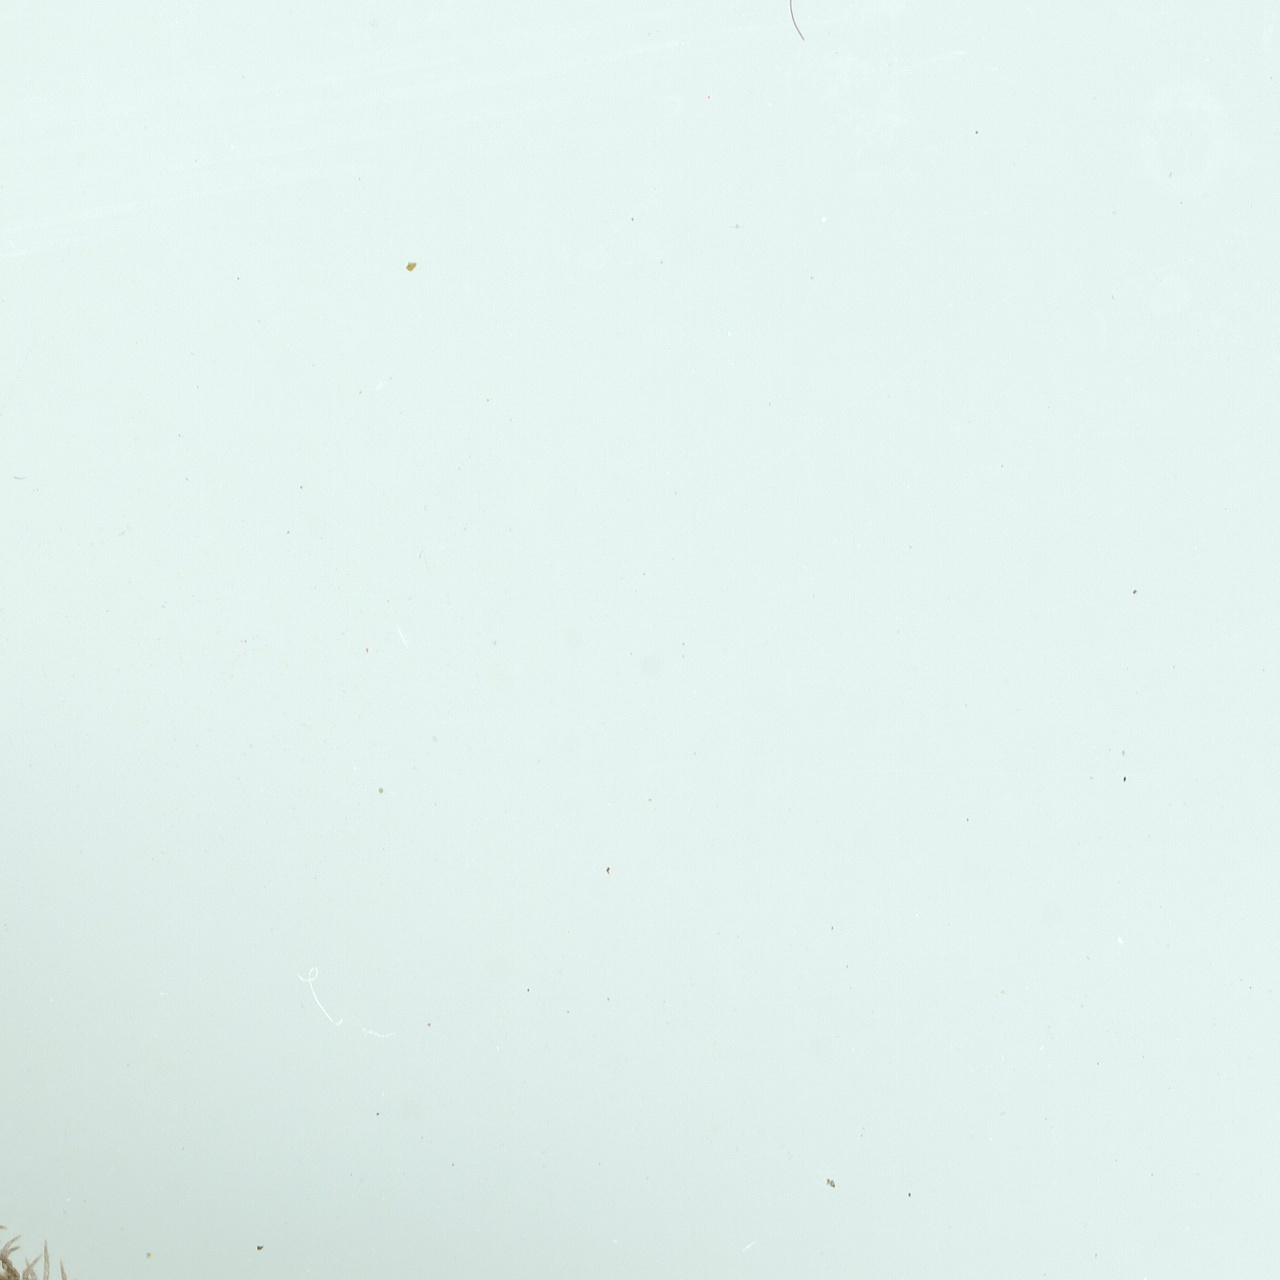arthropod: (0, 737, 724, 1280)
